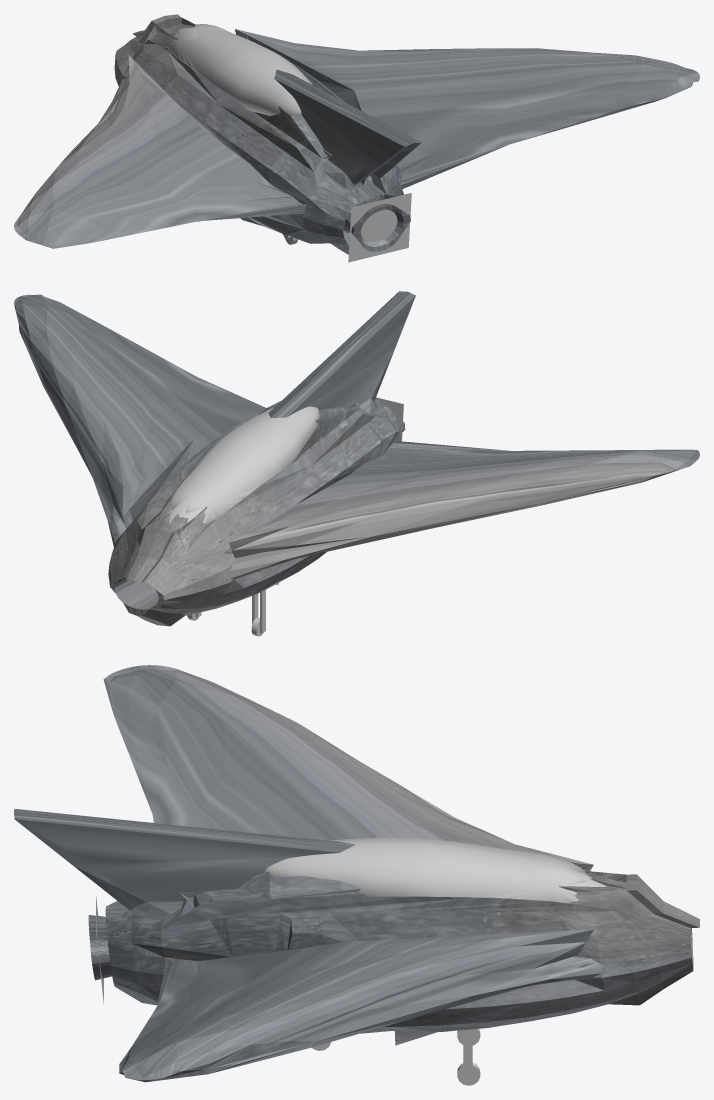
Rendered from Vliegtuig.fbx.
3 views of the same model, one above another, from view 1: azimuth 30°, elevation 25°; view 2: azimuth 150°, elevation 25°; view 3: azimuth 270°, elevation 25° (orthographic). The views are drawn at different scales.
Parts seen in each view (by area): view 1: pSphere1, pSphere2, pPlane14; view 2: pSphere1, pSphere2, nurbsTorus2; view 3: pSphere1, pSphere2, pSphere3, nurbsTorus7.
Boxes of the visible parts, x1,y1,x2,y2 form: pSphere1: [14, 14, 699, 254]; pSphere2: [167, 24, 312, 115]; pPlane14: [348, 193, 411, 262]; pSphere1: [14, 291, 699, 626]; pSphere2: [161, 406, 319, 523]; nurbsTorus2: [251, 590, 265, 636]; pSphere1: [14, 665, 699, 1082]; pSphere2: [265, 837, 605, 903]; pSphere3: [283, 911, 557, 949]; nurbsTorus7: [457, 1029, 480, 1085].
Bounding box in the file's own units: 40.66 × 11.61 × 28.49.
